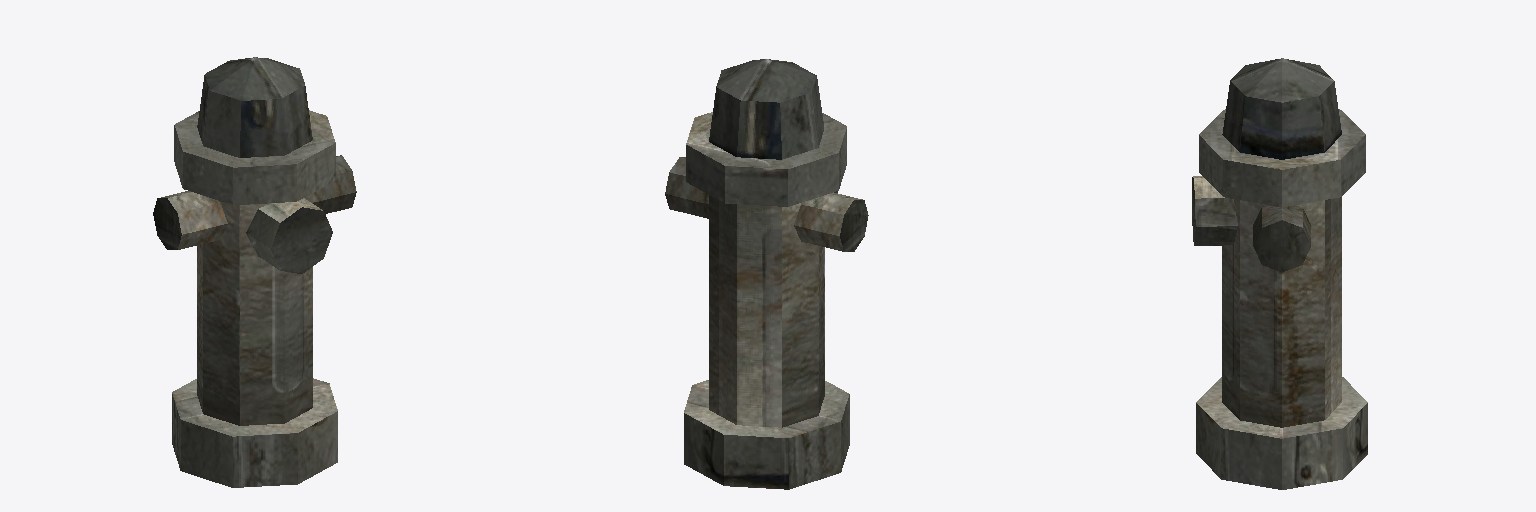
3 renders of one model, left to right at view 1: azimuth 30°, elevation 25°; view 2: azimuth 150°, elevation 25°; view 3: azimuth 270°, elevation 25°, orthographic.
Parts seen in each view (by area): view 1: polySurface9; view 2: polySurface9; view 3: polySurface9.
Part boxes in pixels (x1,y1,x2,y2): polySurface9: (153,57,356,487); polySurface9: (665,59,868,489); polySurface9: (1192,58,1367,489).
Size of the model in its own units: 0.1724 by 0.3732 by 0.1508.
Materials: 1 (1 with a texture image).